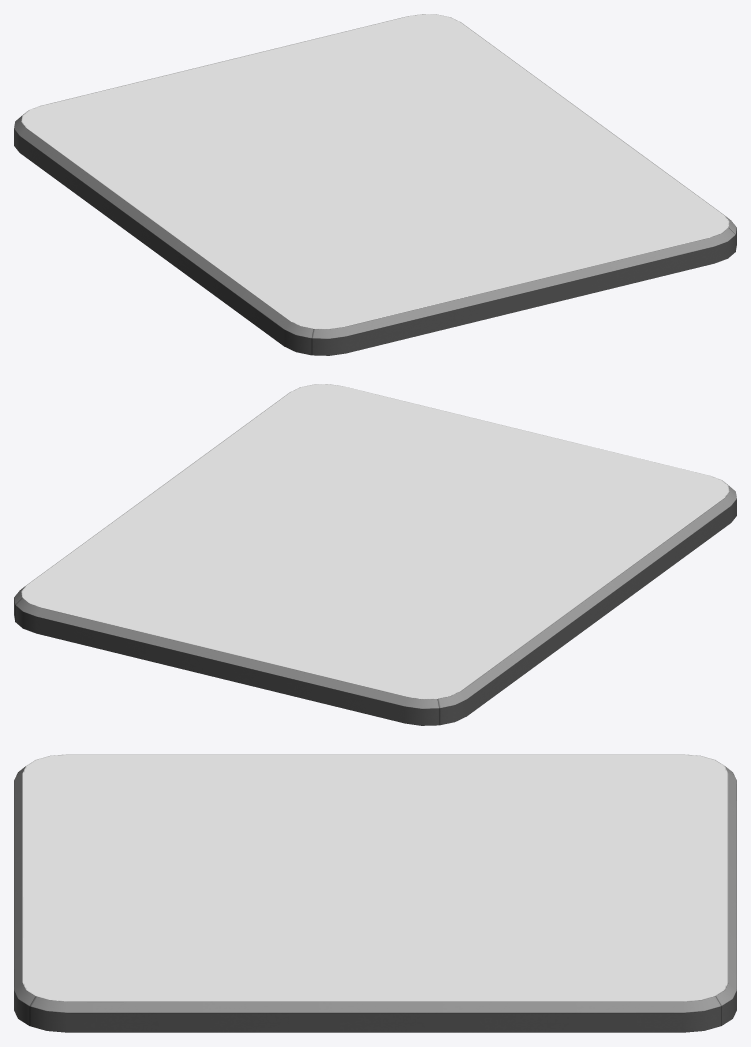
The model's file is Podium_01.FBX.
The picture shows the model from 3 angles, top to bottom: view 1: azimuth 30°, elevation 25°; view 2: azimuth 150°, elevation 25°; view 3: azimuth 270°, elevation 25°; orthographic projection. The views are drawn at different scales.
Parts seen in each view (by area): view 1: Podium_01; view 2: Podium_01; view 3: Podium_01.
Boxes of the visible parts, bbox=[...] form: Podium_01: bbox=[14, 14, 736, 355]; Podium_01: bbox=[14, 384, 736, 725]; Podium_01: bbox=[14, 754, 736, 1032].
Bounding box in the file's own units: 5 × 0.25 × 6.
